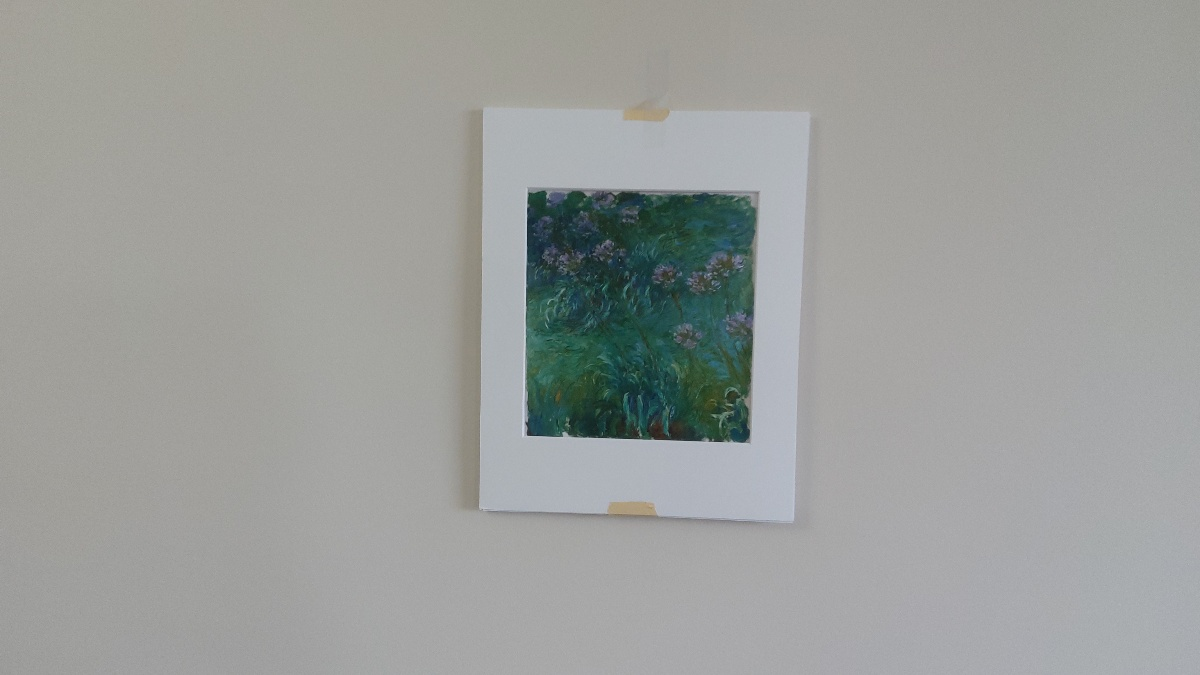painting: (516, 180, 764, 450)
